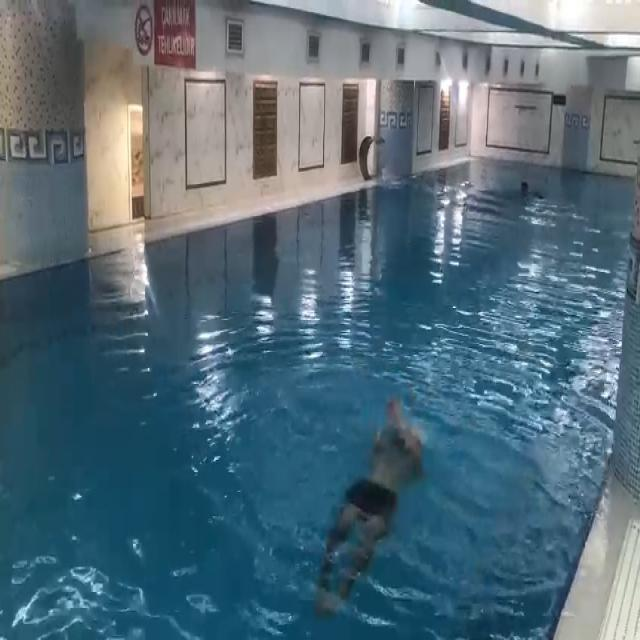Drowning: (315, 402, 423, 620)
